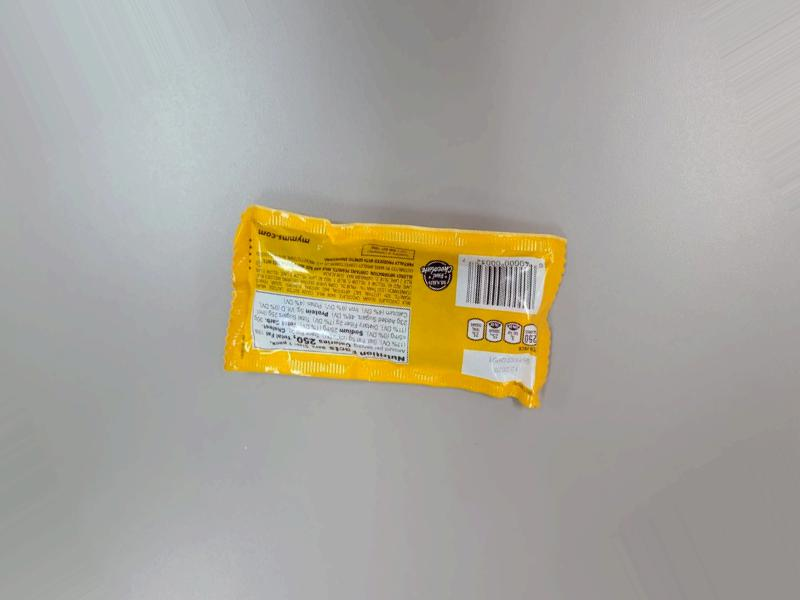m&m: (228, 191, 601, 379)
